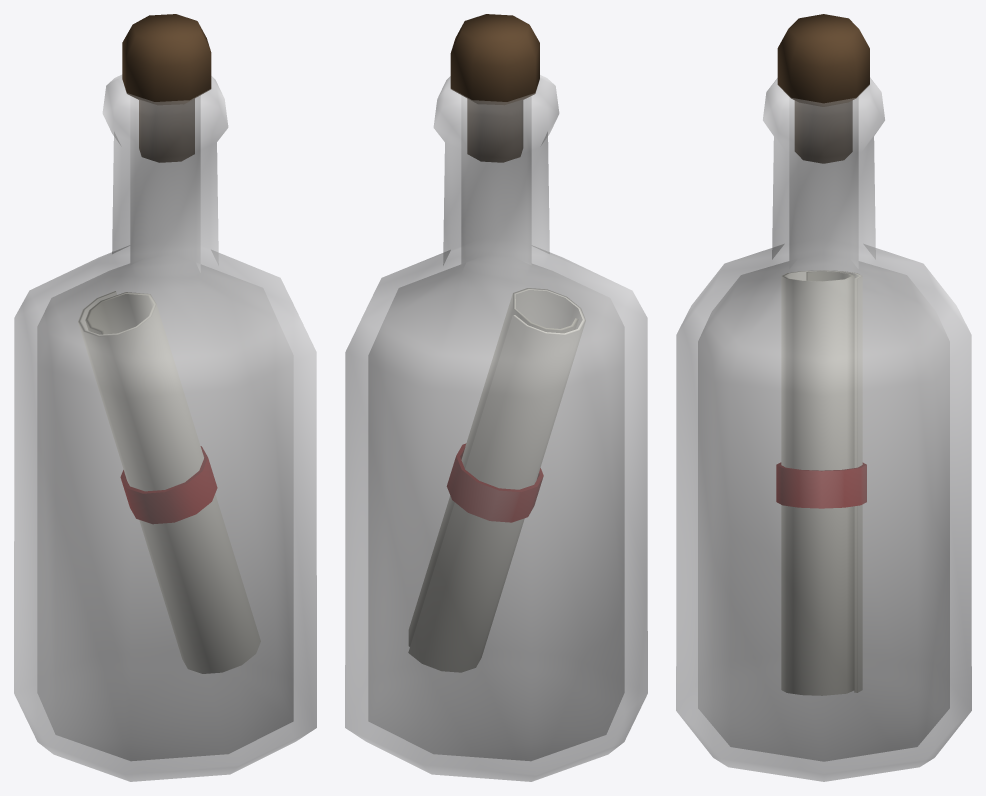
File: human-containers-message-bottle_v1.glb
3 renders of one model, left to right at view 1: azimuth 30°, elevation 25°; view 2: azimuth 150°, elevation 25°; view 3: azimuth 270°, elevation 25°, orthographic.
Parts seen in each view (by area): view 1: Message Bottle.001, Message Bottle; view 2: Message Bottle.001, Message Bottle; view 3: Message Bottle.001, Message Bottle.
Part boxes in pixels (x1,y1,x2,y2): Message Bottle.001: (14, 75, 316, 781); Message Bottle: (78, 14, 260, 673); Message Bottle.001: (345, 75, 647, 781); Message Bottle: (408, 14, 585, 672); Message Bottle.001: (676, 77, 971, 781); Message Bottle: (776, 14, 869, 695).
Size of the model in its own units: 0.1149 by 0.3 by 0.1149.
